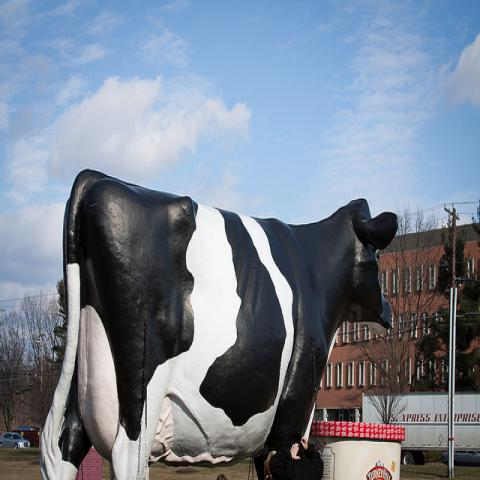car: (0, 430, 31, 450)
truck: (362, 390, 480, 466)
